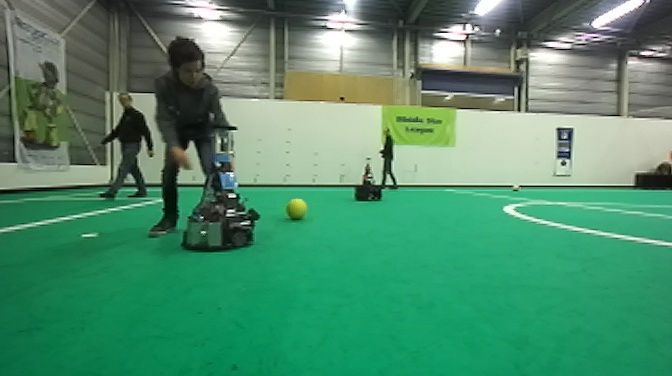ball: (286, 195, 309, 222), (509, 181, 523, 194)
human: (146, 33, 233, 238), (97, 93, 156, 200), (375, 126, 403, 192)
robot: (182, 124, 261, 254), (353, 154, 385, 204)
